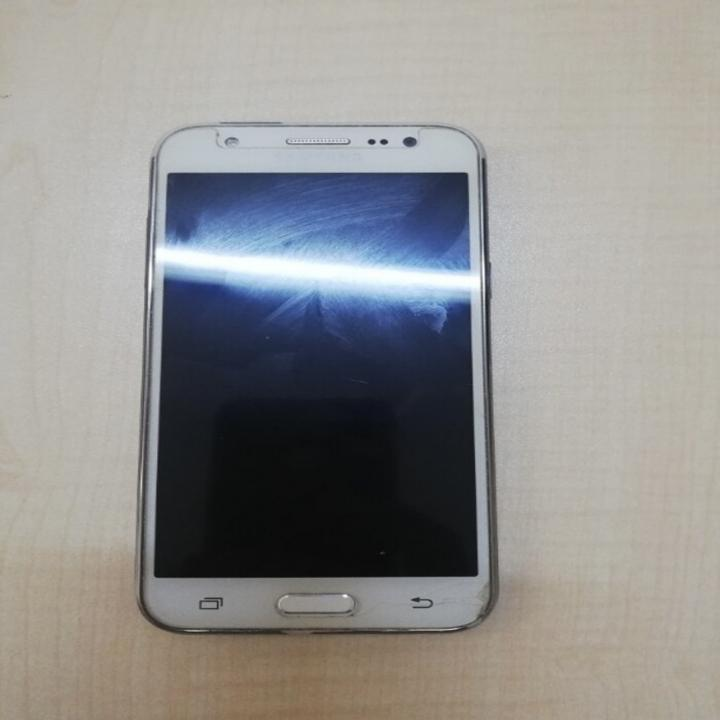Dents: (454, 581, 505, 627), (276, 625, 391, 642)
phone good: (106, 112, 521, 579)
